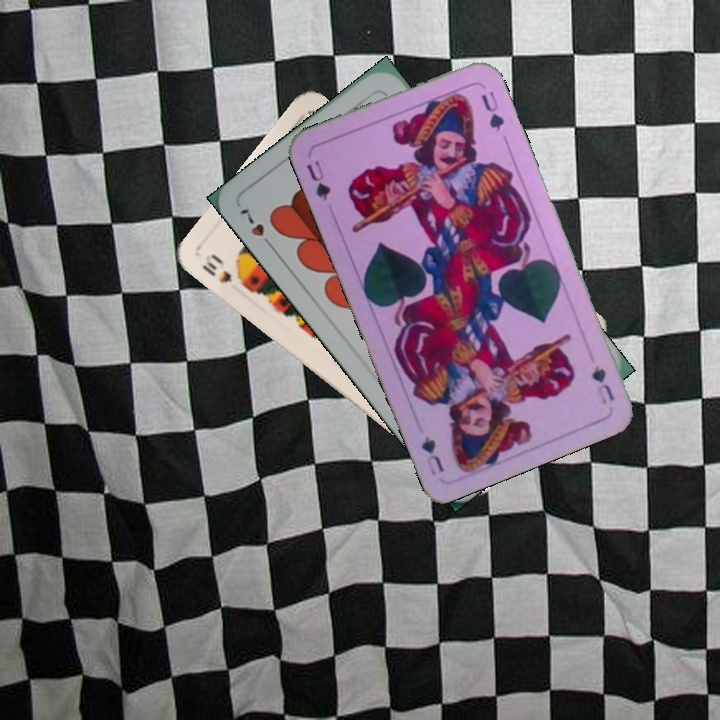GU: (302, 156, 334, 203), (587, 361, 617, 407)
H7: (235, 204, 278, 253)
S10: (198, 250, 248, 291)
